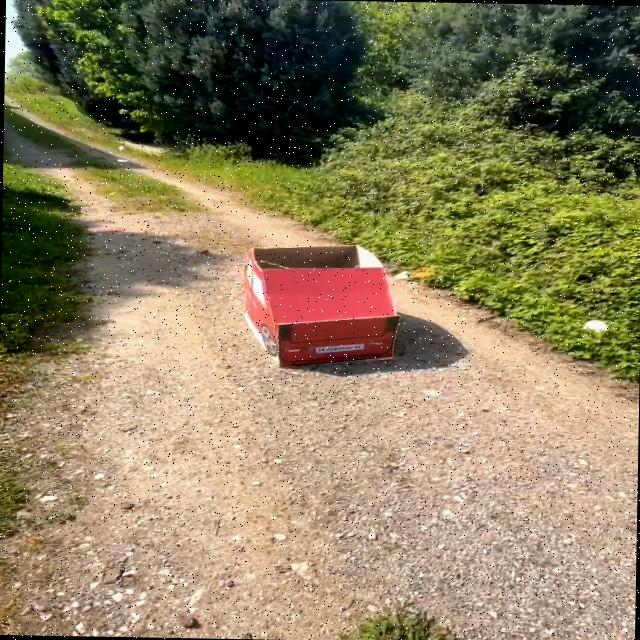red_car: (200, 235, 484, 394)
